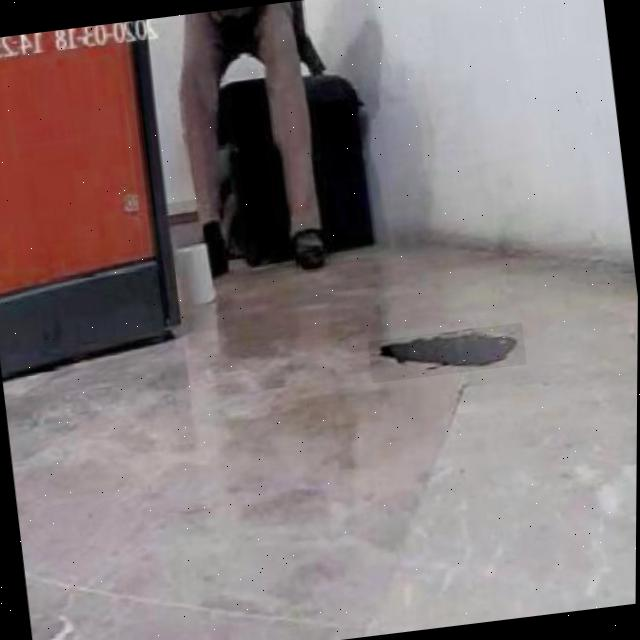spillage: (371, 331, 523, 368)
